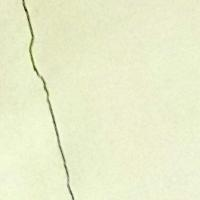crack: (8, 0, 83, 199)
